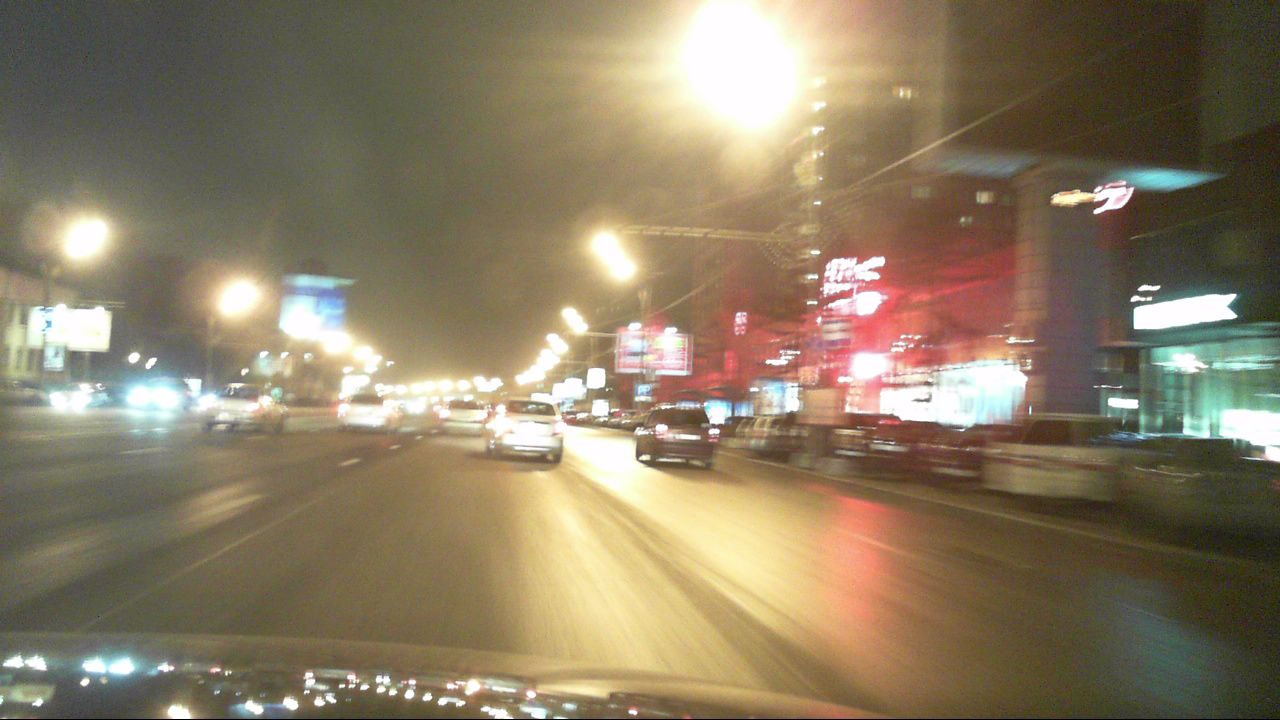No Parking: (806, 335, 827, 356)
